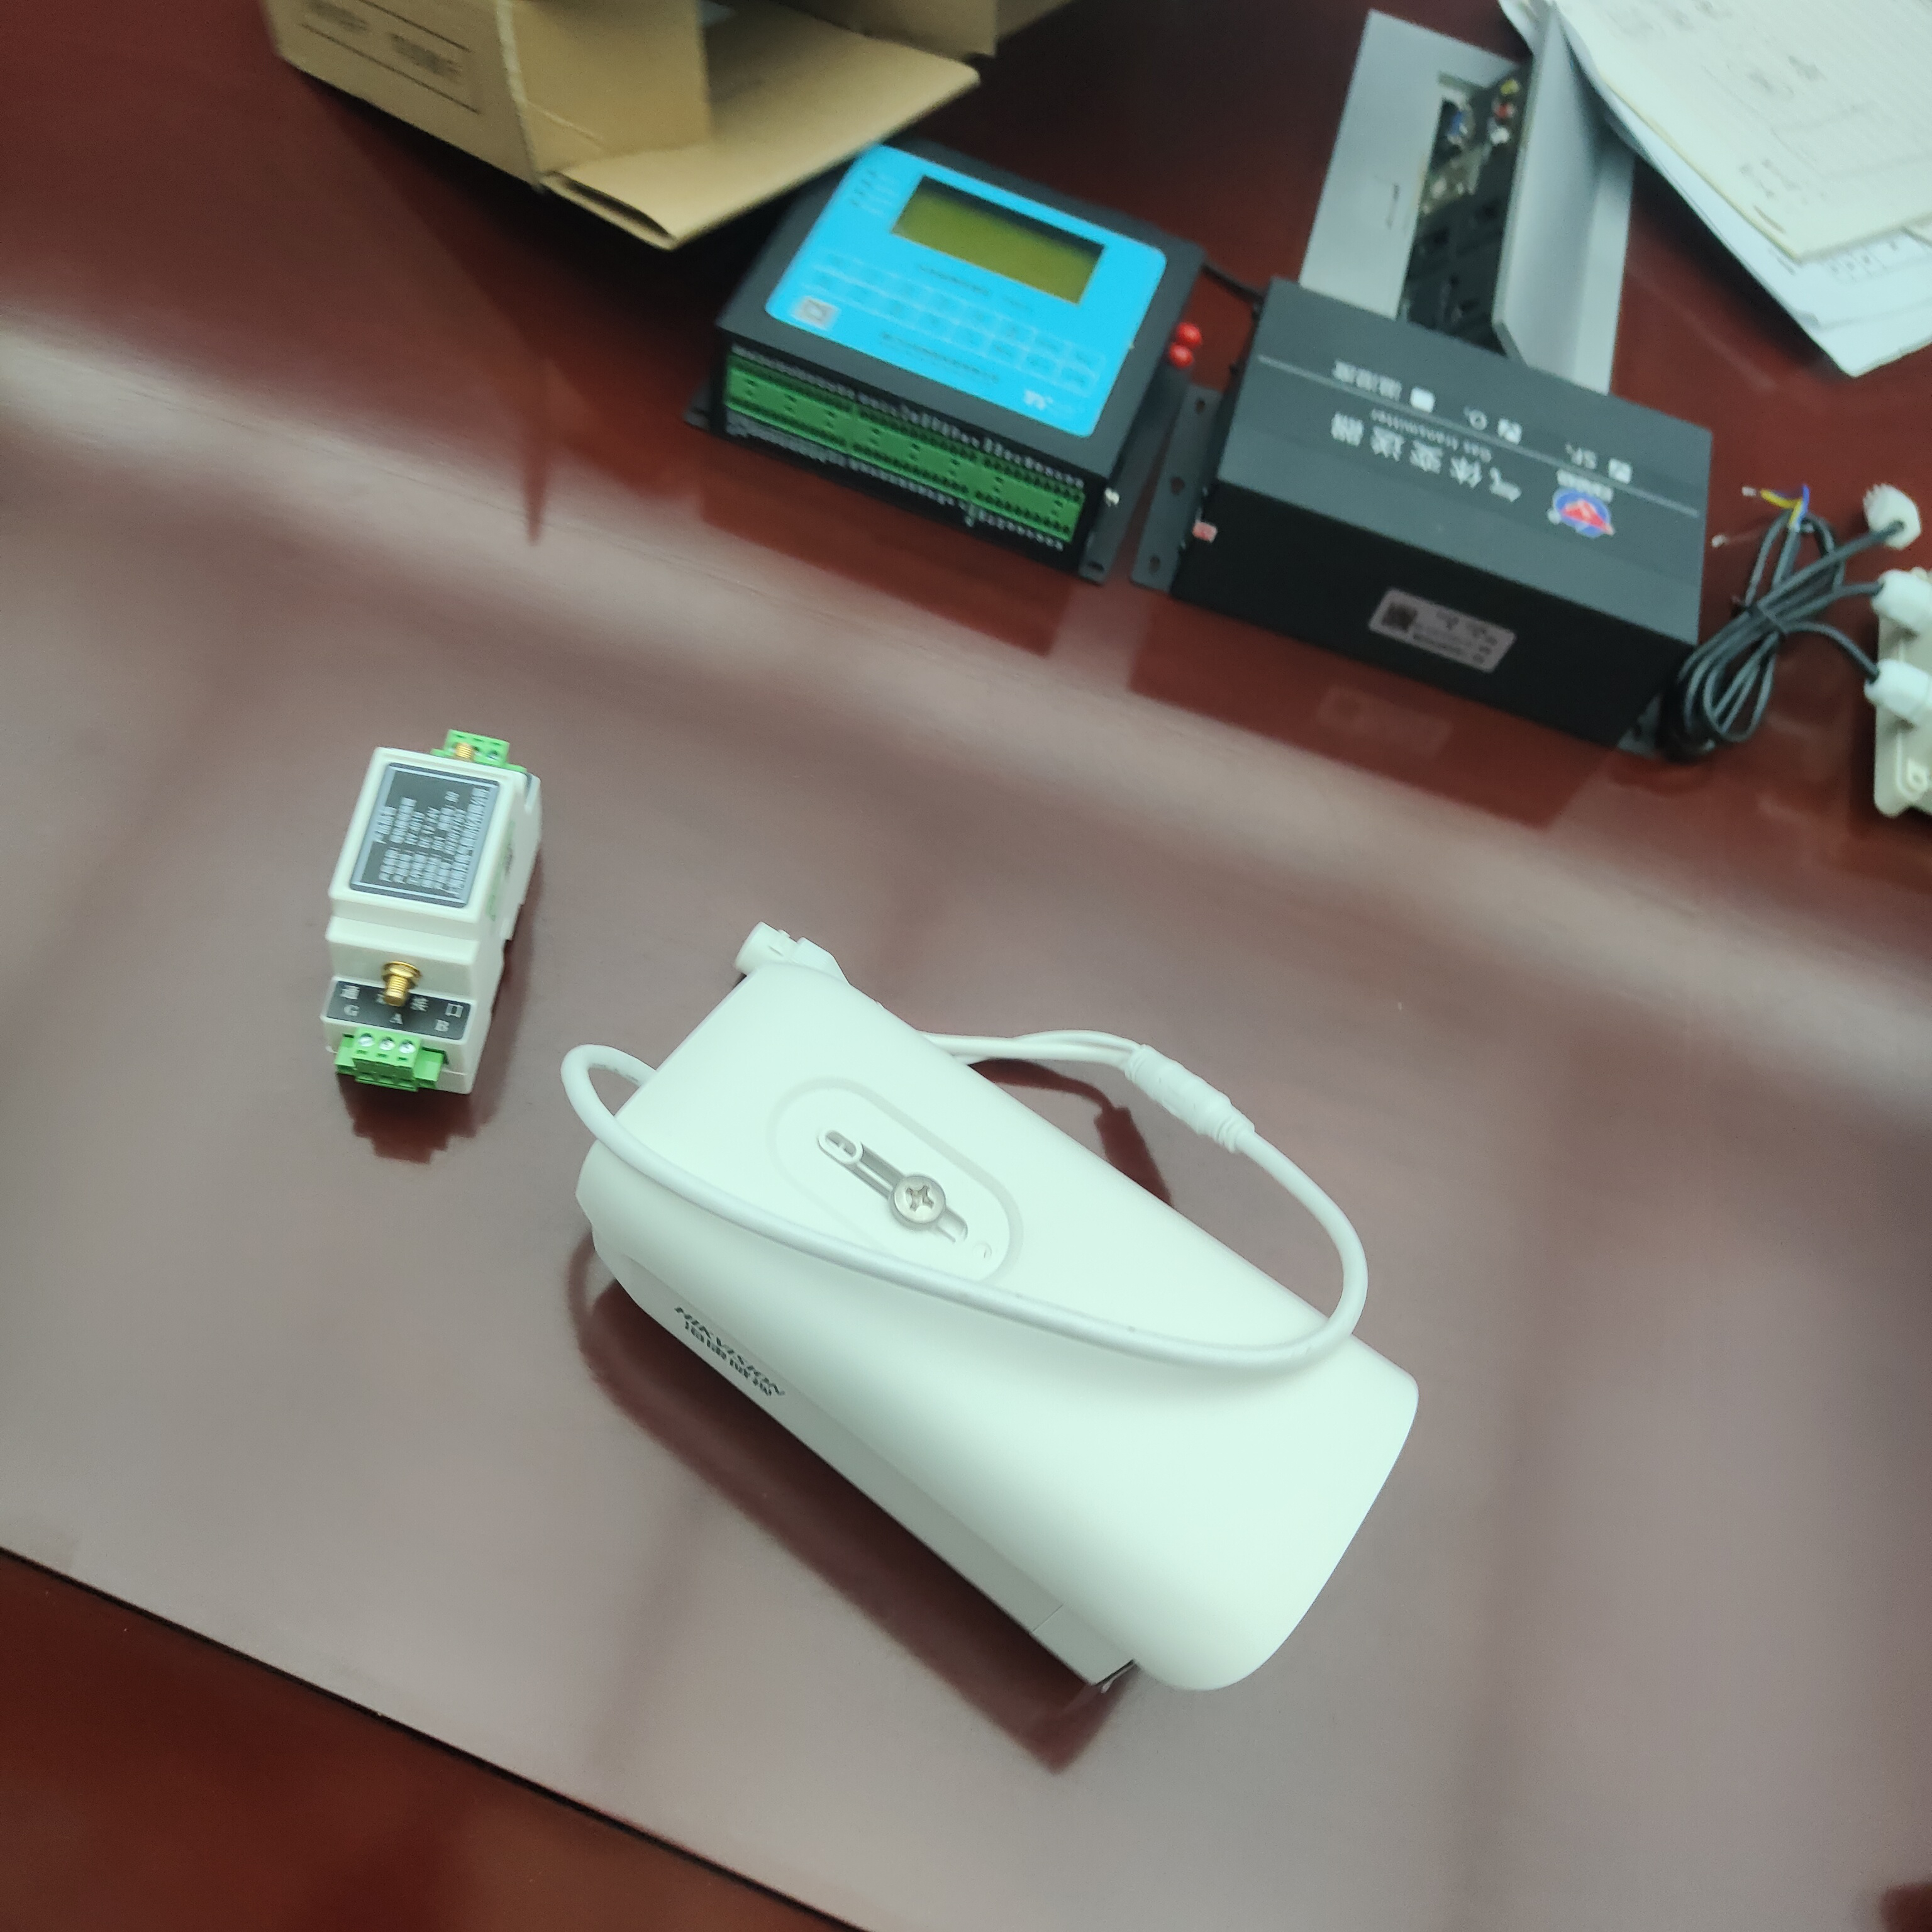dgjs: (320, 722, 557, 1106)
hkws: (563, 897, 1424, 1762)
qtbsq: (1196, 255, 1730, 759)
slyczd: (695, 142, 1210, 596)
